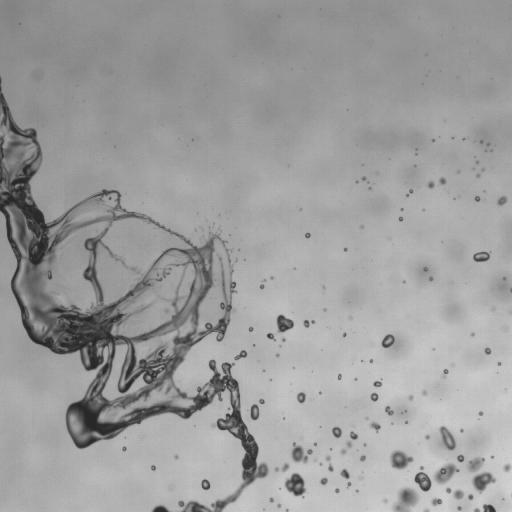droplet: (467, 456, 496, 493), (392, 486, 418, 511), (284, 472, 305, 497), (390, 450, 413, 469), (291, 443, 312, 463), (276, 314, 293, 332), (381, 334, 394, 348), (473, 251, 490, 261), (249, 404, 259, 420), (369, 421, 380, 431), (332, 426, 341, 437), (201, 479, 210, 490), (497, 196, 507, 205), (340, 469, 349, 479), (297, 392, 305, 403), (431, 498, 442, 506), (303, 320, 314, 327), (370, 392, 378, 401), (385, 406, 393, 415), (503, 464, 511, 472), (266, 333, 275, 340), (373, 380, 382, 387), (439, 177, 446, 184), (427, 181, 434, 188), (484, 347, 491, 354), (320, 477, 327, 484), (442, 369, 448, 377), (457, 455, 464, 461), (360, 455, 365, 461), (468, 494, 473, 500), (475, 196, 480, 201), (305, 233, 310, 238), (248, 326, 253, 331), (422, 390, 427, 395), (408, 395, 413, 400), (259, 399, 264, 404), (429, 276, 433, 281), (478, 411, 483, 415), (151, 465, 155, 470), (347, 482, 351, 487), (269, 497, 273, 502), (383, 498, 387, 503), (260, 284, 264, 288), (425, 435, 429, 439), (122, 446, 126, 450), (174, 455, 178, 459), (335, 488, 339, 492), (457, 506, 461, 510), (338, 374, 341, 379), (399, 217, 402, 221), (424, 267, 427, 271), (342, 333, 346, 336), (476, 174, 479, 177), (362, 177, 365, 180), (492, 307, 495, 310), (471, 333, 474, 336), (282, 338, 285, 341), (369, 359, 372, 362), (460, 429, 463, 432), (359, 476, 362, 479), (277, 504, 280, 507), (271, 276, 273, 279), (276, 354, 279, 356), (498, 362, 500, 365), (285, 509, 288, 511), (344, 248, 346, 250), (503, 277, 505, 279)
ligament: (0, 77, 268, 511), (414, 462, 458, 491), (439, 426, 455, 450), (341, 431, 357, 454), (445, 487, 463, 499), (473, 504, 496, 511), (234, 350, 247, 360), (325, 455, 333, 471), (274, 463, 289, 471), (151, 505, 171, 511), (407, 189, 413, 195), (423, 509, 429, 511)
